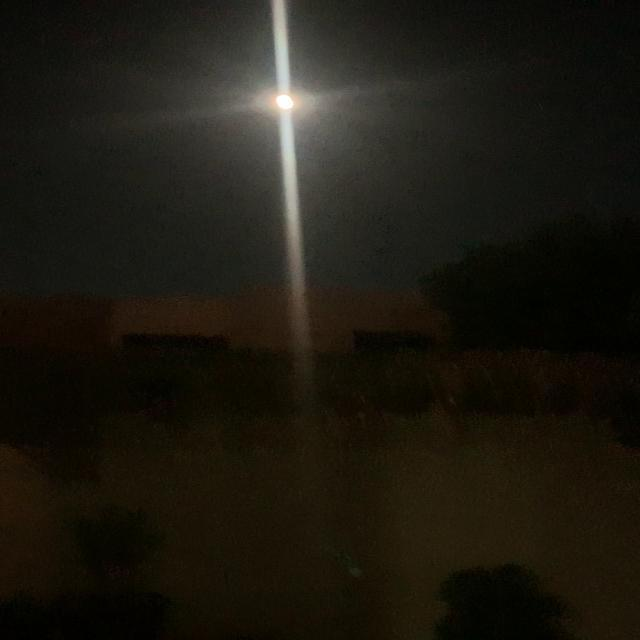moon: (251, 82, 313, 115)
